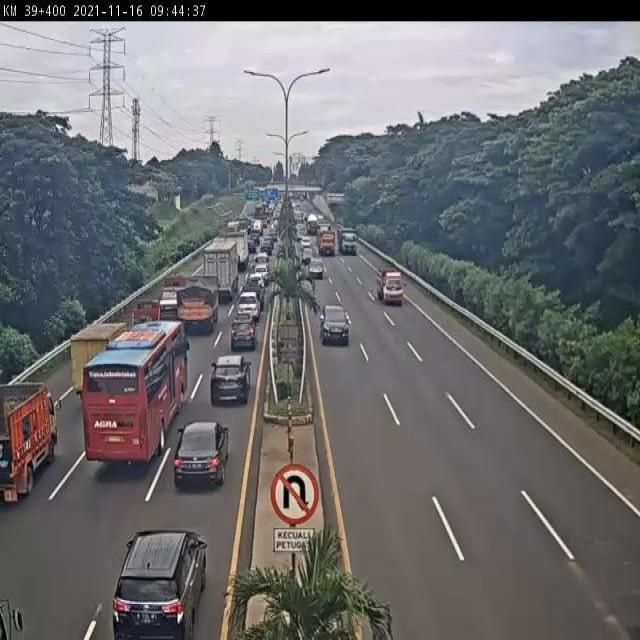big bus: (83, 322, 191, 466)
car: (112, 529, 210, 640), (173, 424, 228, 492), (210, 359, 251, 409), (317, 304, 351, 344), (229, 320, 256, 355), (237, 291, 259, 321), (242, 284, 265, 307), (309, 256, 325, 280), (247, 270, 266, 290)
small truck: (61, 328, 125, 399), (152, 280, 187, 329), (117, 304, 157, 345)
truck-l-: (199, 240, 239, 296)
truck-m-: (175, 284, 216, 337), (377, 270, 405, 306)
